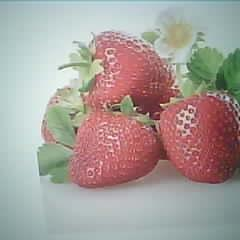straw-ripe: (159, 95, 238, 183), (70, 113, 159, 188), (87, 29, 171, 108)
